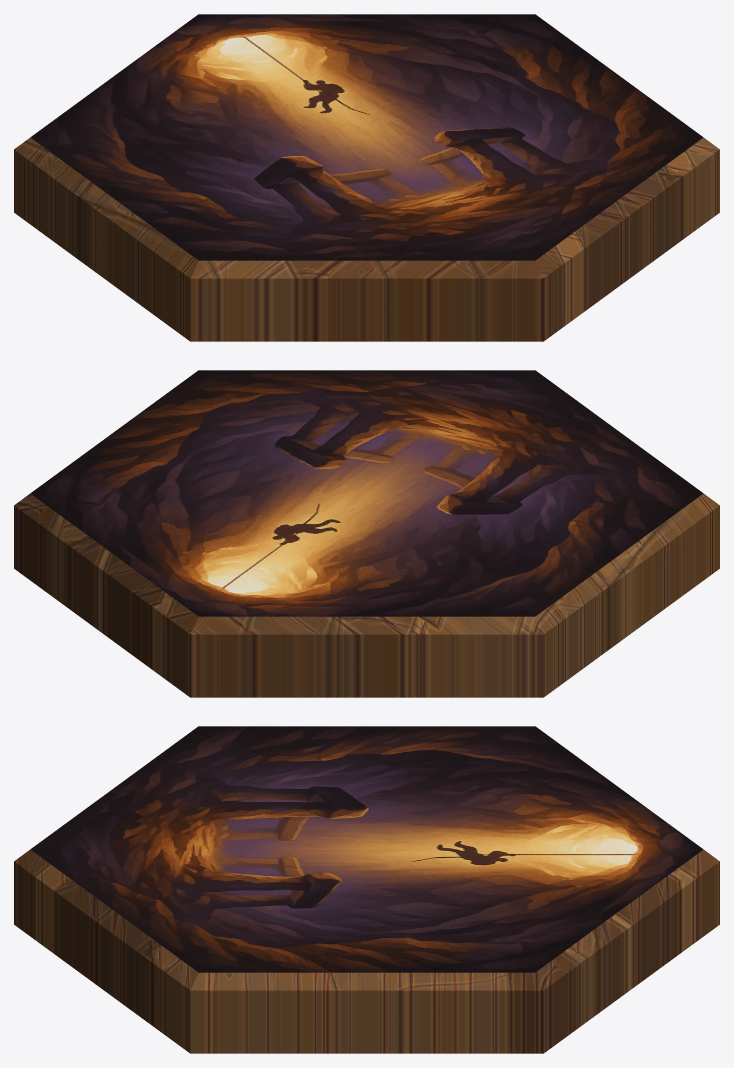
The model's file is entrance.glb.
The picture shows the model from 3 angles, top to bottom: view 1: azimuth 30°, elevation 25°; view 2: azimuth 150°, elevation 25°; view 3: azimuth 270°, elevation 25°; orthographic projection.
Parts seen in each view (by area): view 1: Circle; view 2: Circle; view 3: Circle.
Boxes of the visible parts, <box> form: Circle: <box>14,14,719,341</box>; Circle: <box>14,370,719,697</box>; Circle: <box>14,726,719,1053</box>.
Bounding box in the file's own units: 1.73 × 0.235 × 2.
Materials: 2 (2 with a texture image).
